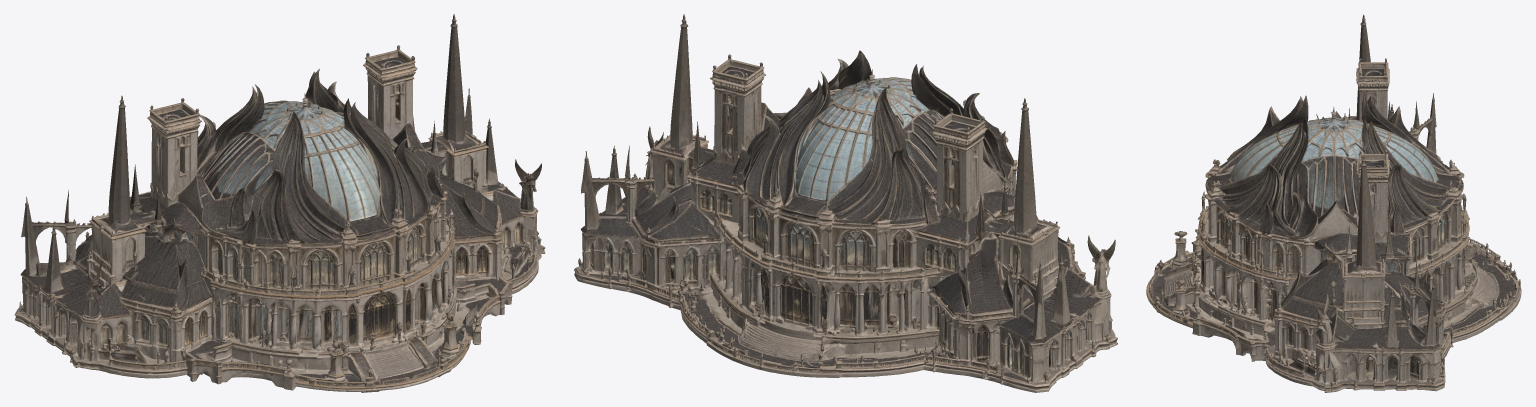
File: grandloft.glb
The picture shows the model from 3 angles, left to right: view 1: azimuth 30°, elevation 25°; view 2: azimuth 150°, elevation 25°; view 3: azimuth 270°, elevation 25°; orthographic projection. The views are drawn at different scales.
Size of the model in its own units: 1.9 by 0.931 by 1.51.
1 material, 1 textured.
